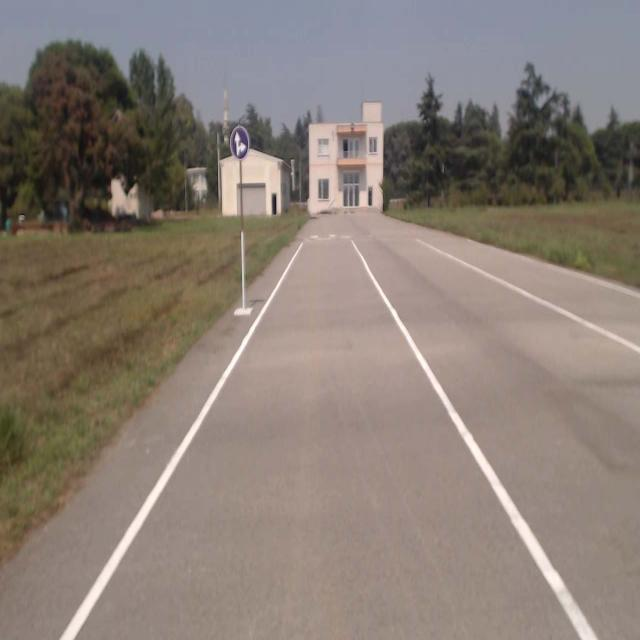ilerisag: (230, 123, 248, 161)
